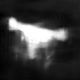plane: (6, 14, 70, 68)
